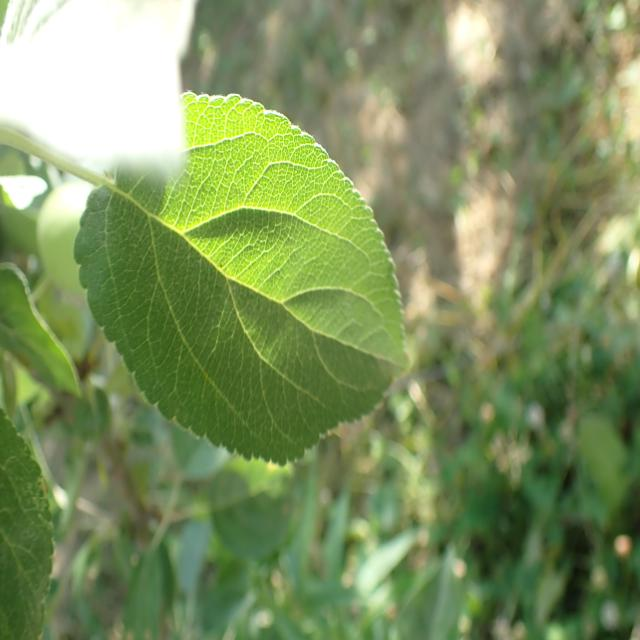healthy: (72, 90, 408, 467), (0, 0, 198, 187), (0, 407, 55, 640), (0, 263, 83, 400)
